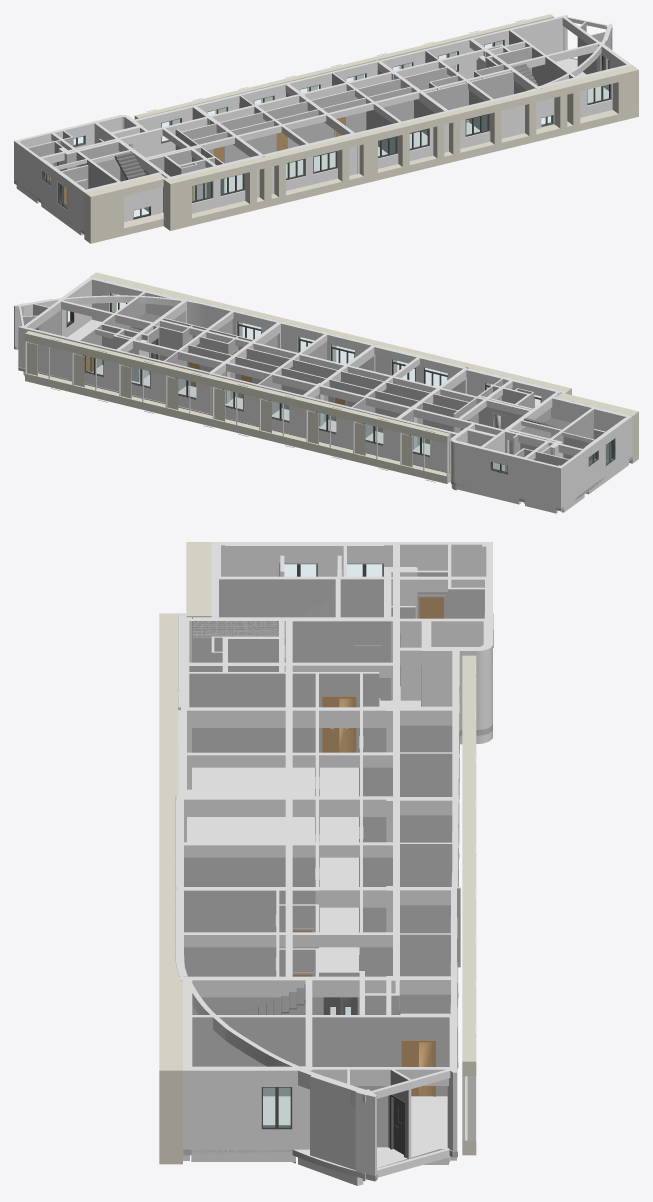
The picture shows the model from 3 angles, top to bottom: view 1: azimuth 30°, elevation 25°; view 2: azimuth 150°, elevation 25°; view 3: azimuth 270°, elevation 25°; orthographic projection. The views are drawn at different scales.
Parts seen in each view (by area): view 1: 矩形钢管_杆件_30x30x5__2281750__1; view 2: 矩形钢管_杆件_30x30x5__2281750__1; view 3: 矩形钢管_杆件_30x30x5__2281750__1.
Boxes of the visible parts, bbox=[...] form: 矩形钢管_杆件_30x30x5__2281750__1: bbox=[14, 14, 638, 243]; 矩形钢管_杆件_30x30x5__2281750__1: bbox=[14, 272, 638, 513]; 矩形钢管_杆件_30x30x5__2281750__1: bbox=[159, 542, 493, 1185].
Bounding box in the file's own units: 48220 × 4000 × 12268.
